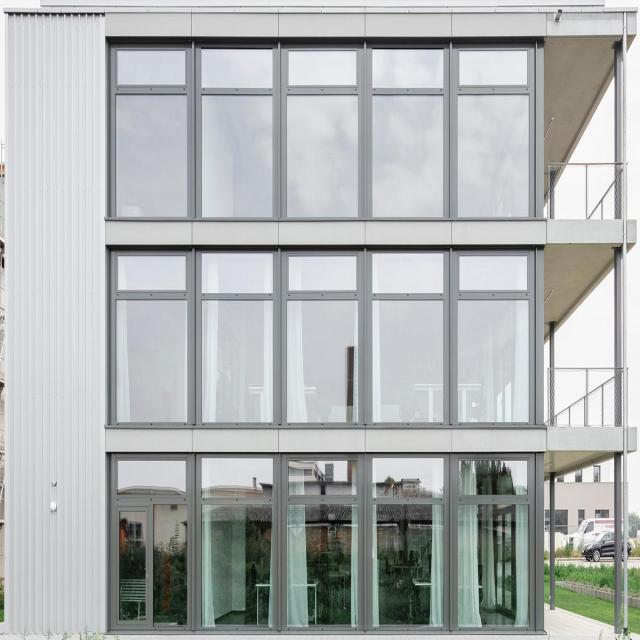door: (108, 497, 156, 635)
railing: (547, 366, 621, 428), (547, 162, 621, 223)
window: (111, 449, 192, 629), (370, 456, 446, 633), (287, 456, 363, 633), (372, 252, 448, 429), (286, 252, 362, 428), (456, 252, 531, 429), (458, 46, 531, 219), (457, 461, 530, 634), (201, 455, 274, 628), (202, 254, 275, 427), (200, 45, 272, 219), (372, 45, 444, 219), (116, 251, 188, 424), (116, 46, 188, 219), (286, 47, 358, 220)
